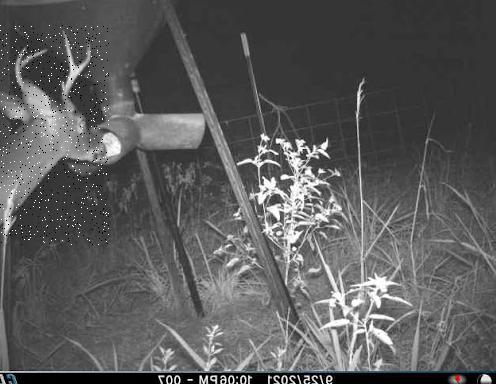Deer: (0, 25, 109, 245)
